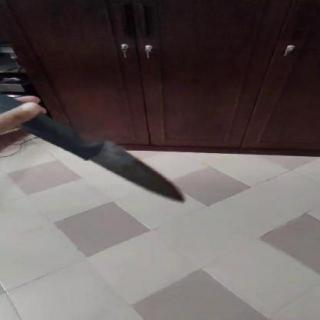knife: (91, 129, 191, 213)
